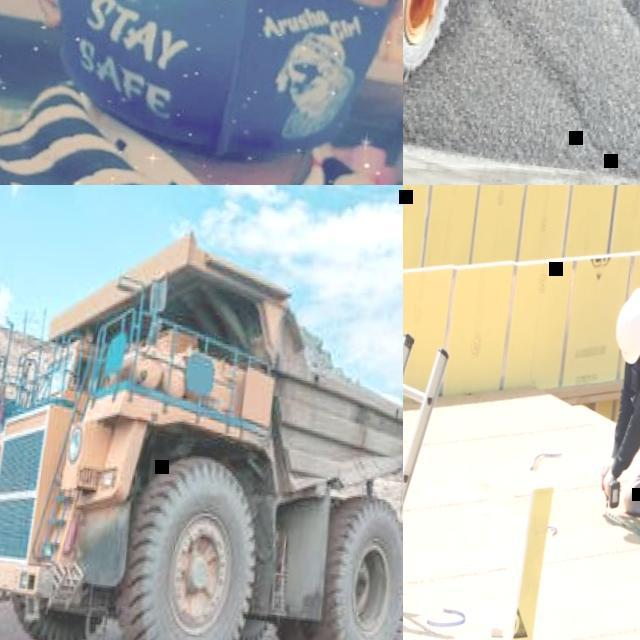helmet: (610, 287, 640, 368)
